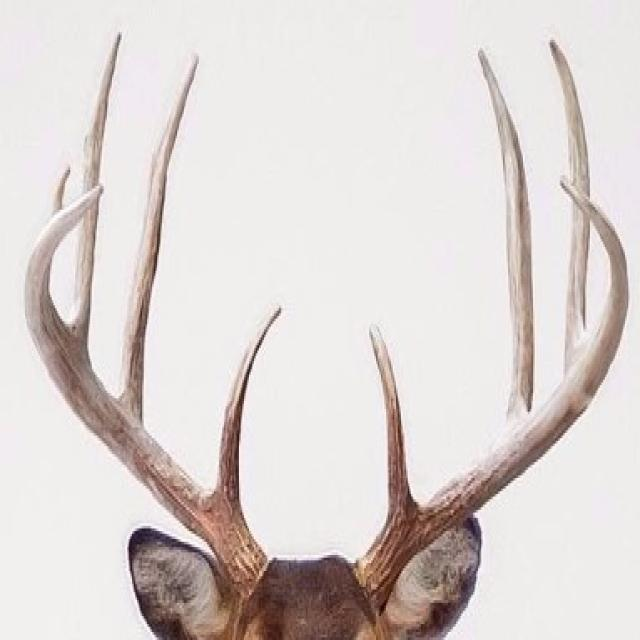E1: (52, 163, 71, 212)
L-F: (358, 182, 629, 601)
L-G1: (368, 323, 414, 533)
L-G2: (477, 44, 534, 421)
R-F: (23, 184, 266, 598)
R-G1: (216, 306, 284, 516)
R-G2: (120, 51, 202, 428)
